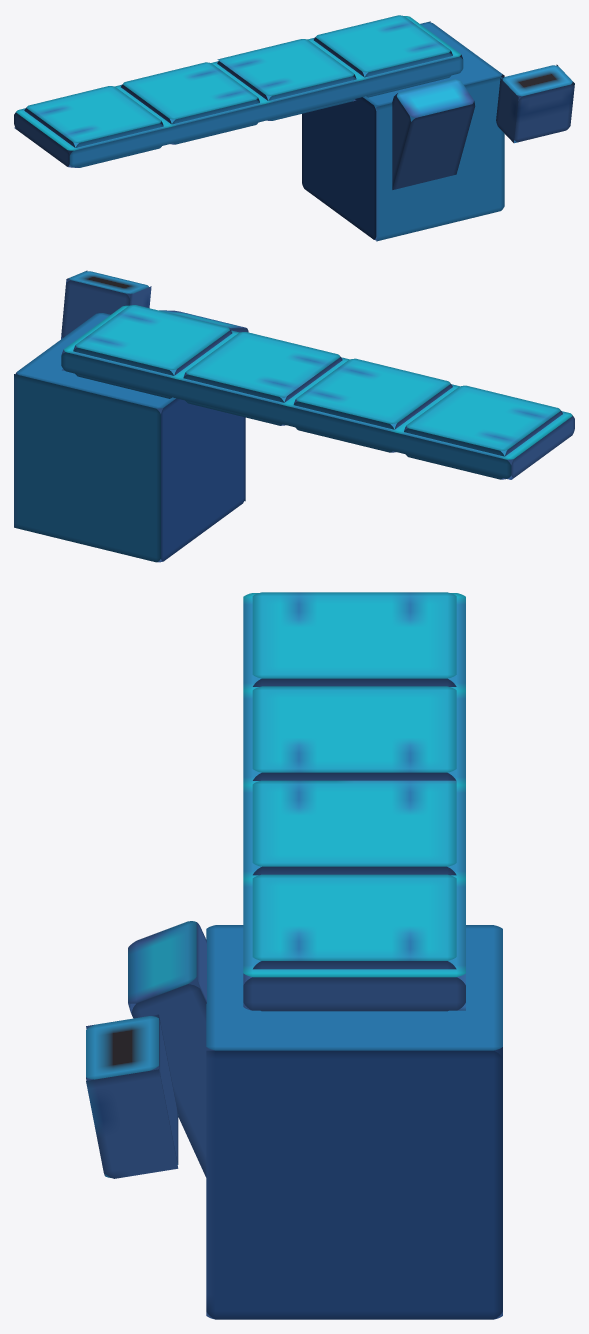
The model's file is df5_chimney.obj.
3 renders of one model, top to bottom at view 1: azimuth 30°, elevation 25°; view 2: azimuth 150°, elevation 25°; view 3: azimuth 270°, elevation 25°, orthographic. The views are drawn at different scales.
Parts seen in each view (by area): view 1: cube; view 2: cube; view 3: cube.
Boxes of the visible parts, x1,y1,x2,y2 form: cube: [14, 15, 574, 241]; cube: [14, 270, 574, 562]; cube: [86, 592, 502, 1319].
Bounding box in the file's own units: 3.62 × 1.19 × 1.41.
